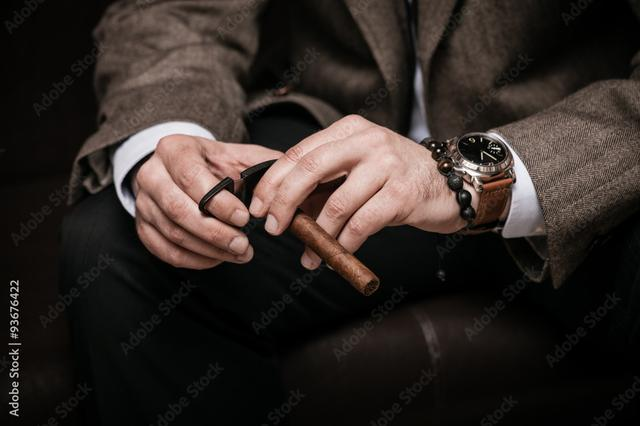Cigar: (285, 207, 380, 297)
